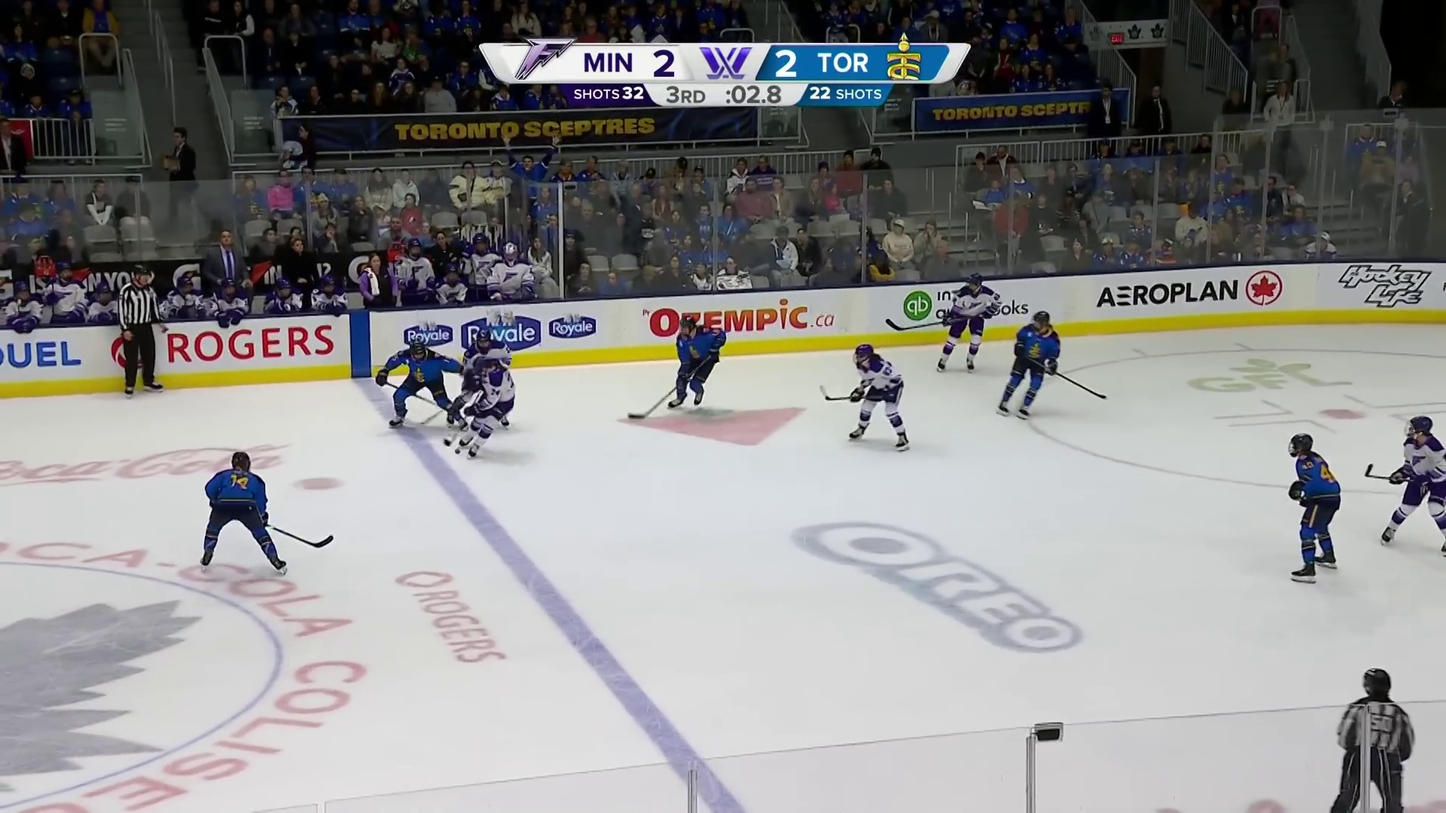player: (199, 447, 291, 575), (1285, 431, 1344, 585), (374, 337, 461, 423), (848, 342, 915, 451), (996, 309, 1061, 419), (935, 272, 1003, 374), (457, 354, 517, 456), (670, 314, 728, 408)
referee: (116, 262, 168, 399)
